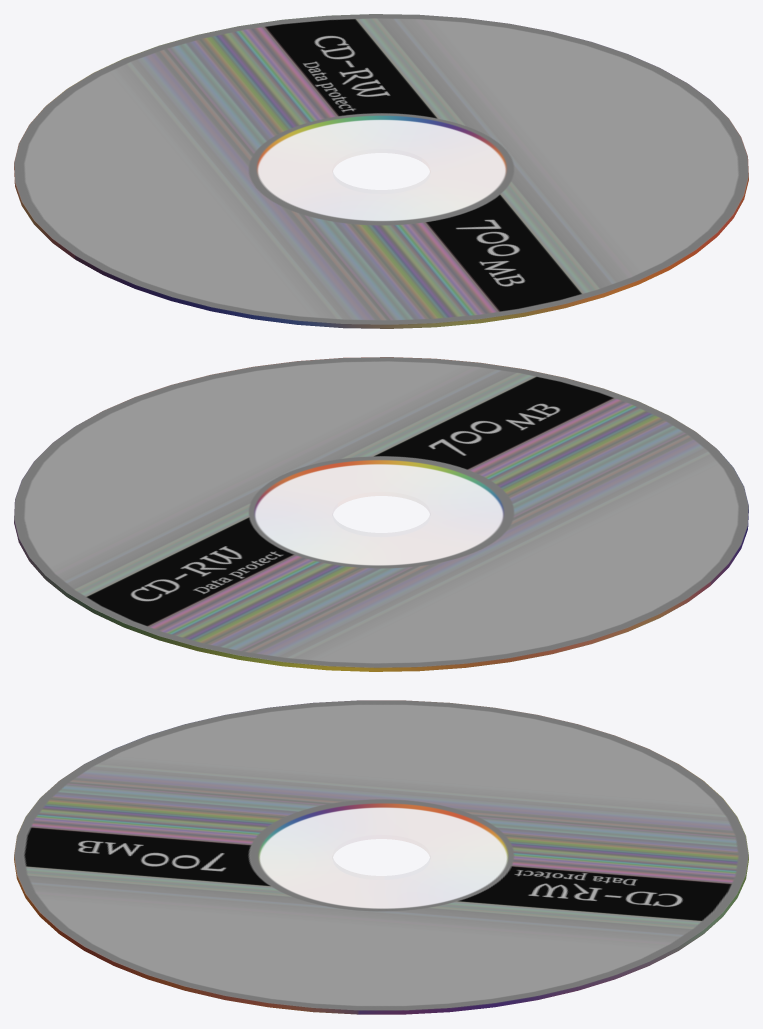
The model's file is disc.glb.
The picture shows the model from 3 angles, top to bottom: view 1: azimuth 30°, elevation 25°; view 2: azimuth 150°, elevation 25°; view 3: azimuth 270°, elevation 25°; orthographic projection.
Parts seen in each view (by area): view 1: compact_disc_1; view 2: compact_disc_1; view 3: compact_disc_1.
Part boxes in pixels (x1=…): compact_disc_1: x1=14, y1=14, x2=748, y2=328; compact_disc_1: x1=14, y1=357, x2=748, y2=671; compact_disc_1: x1=14, y1=700, x2=748, y2=1014.
Bounding box in the file's own units: 0.1195 × 0.000748 × 0.1197.
1 material, 1 textured.
